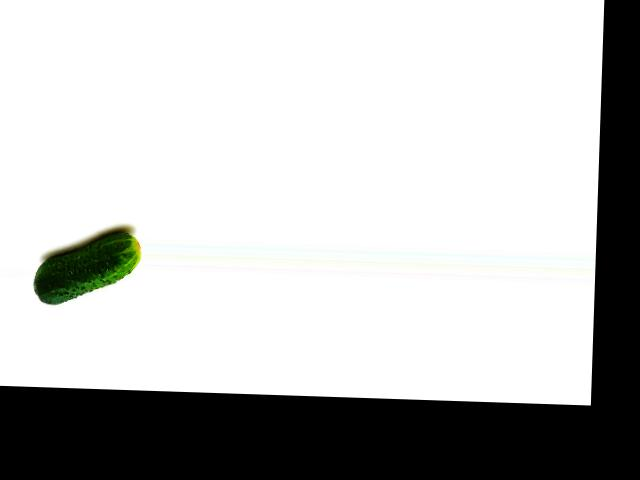cucumber: (33, 229, 141, 307)
